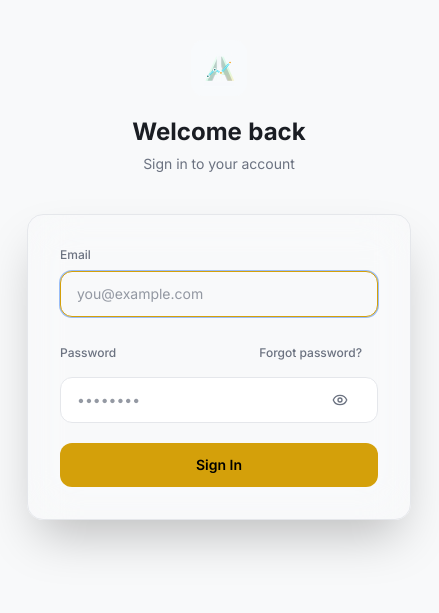
Test: LoginPage — MFA second step › switches to the code step when the server answers mfa_required
Type "trader@example.com" into the field with placeholder "you@example.com".
click(219, 294); type("trader@example.com")  # box left=60, top=271, right=378, bottom=317
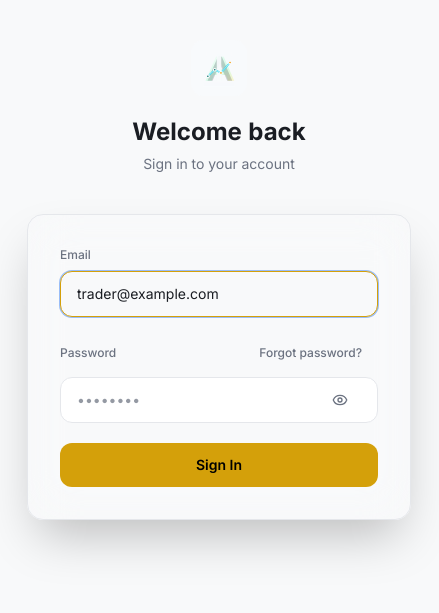
Type "hunter2hunter2" into the password field with placeholder "••••••••".
click(219, 400); type("hunter2hunter2")  # box left=60, top=377, right=378, bottom=423
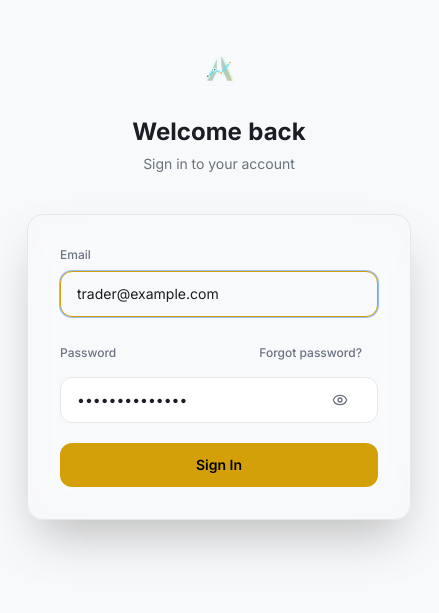
Click the button "Sign In".
click(219, 465)  # box left=60, top=443, right=378, bottom=487
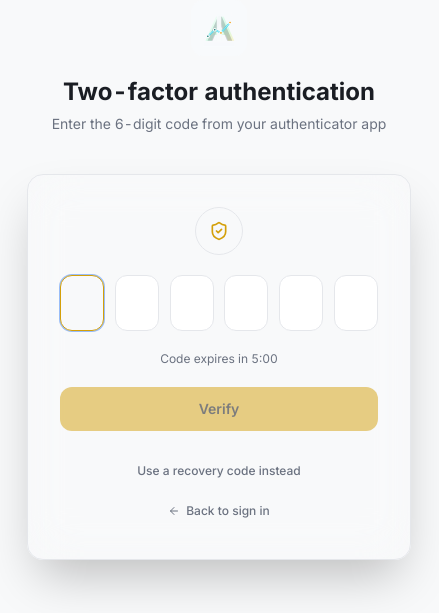
Expected: the heading "Two-factor authentication" is shown, left=63, top=77, right=375, bottom=106
Expected: the number of fields named "Digit 1" is 6, left=60, top=275, right=104, bottom=331; left=115, top=275, right=159, bottom=331; left=170, top=275, right=214, bottom=331; left=224, top=275, right=268, bottom=331; left=279, top=275, right=323, bottom=331; left=334, top=275, right=378, bottom=331
Expected: the text "Code expires in 5:00" is shown, left=160, top=351, right=278, bottom=366
